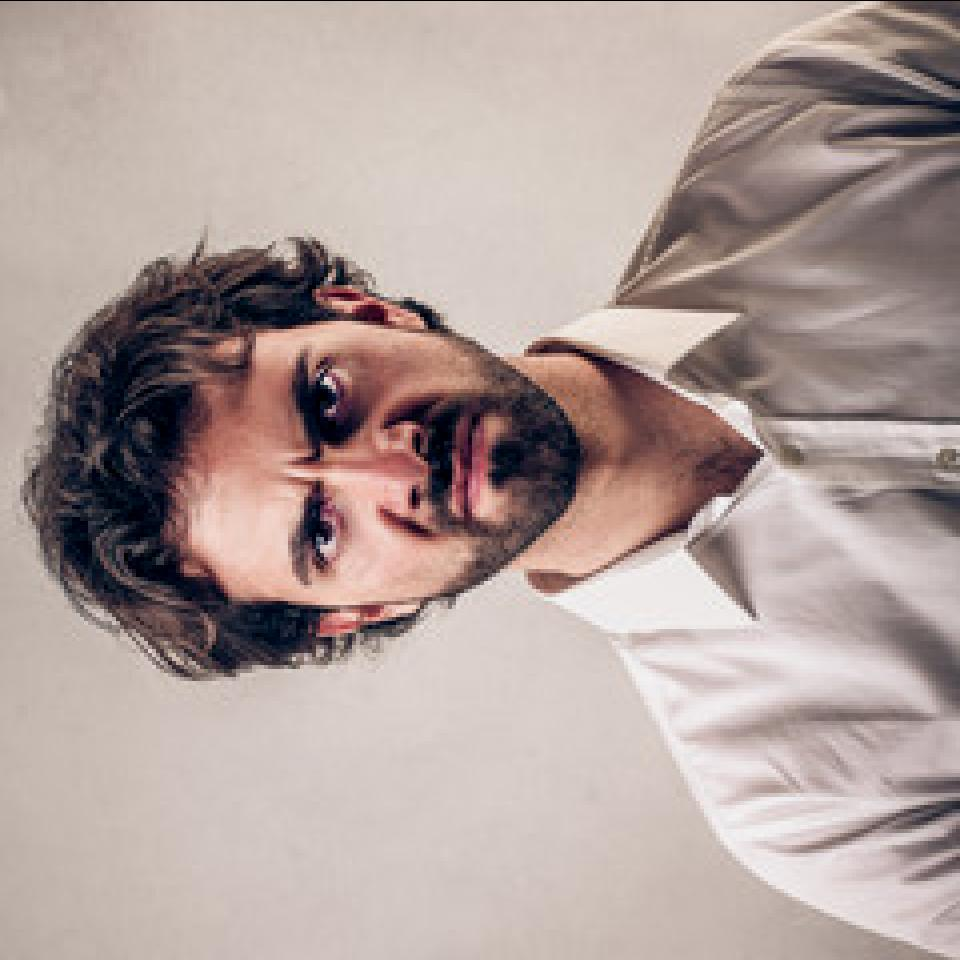Anger: (189, 328, 580, 596)
